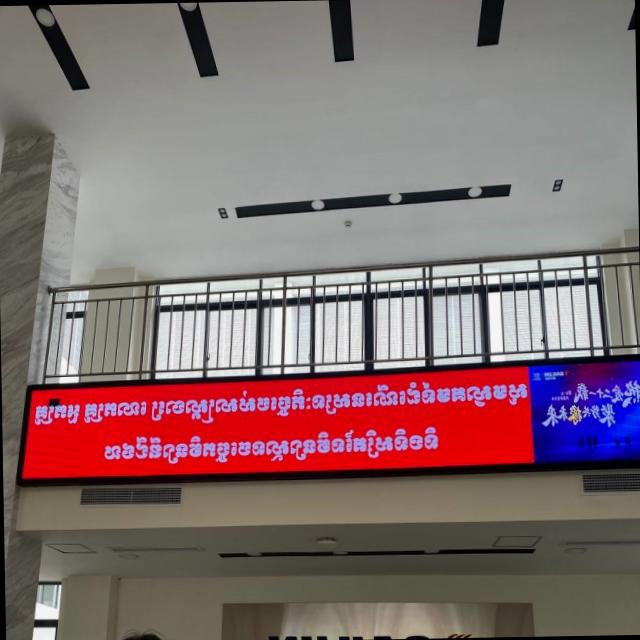2: (28, 377, 530, 426)
Yolov11_80vkh: (97, 421, 443, 465)
